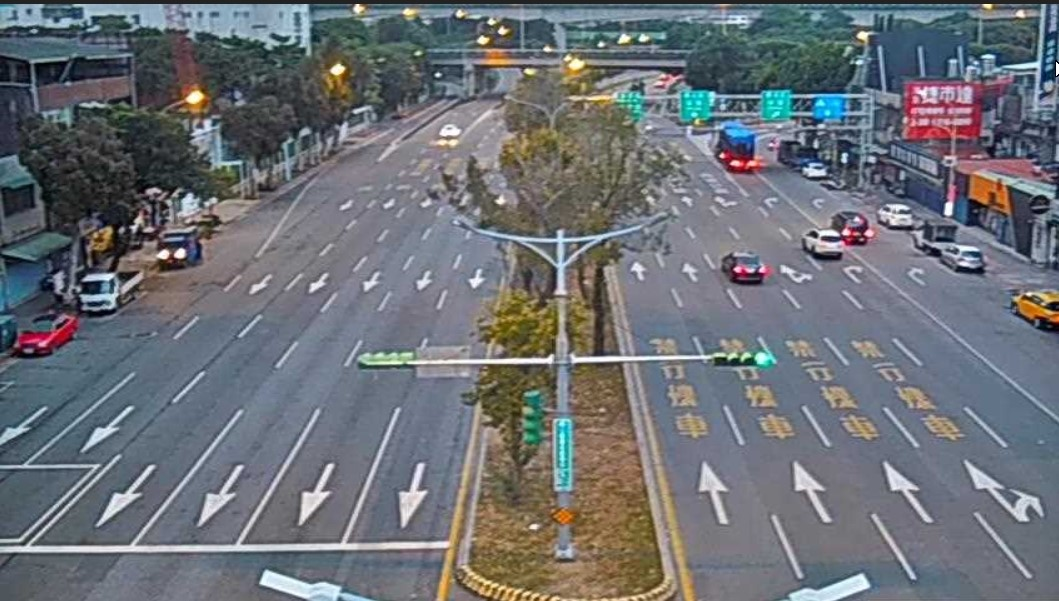Business Passenger Car: (1012, 277, 1059, 334)
Private Passenger Car: (20, 306, 71, 357), (716, 247, 774, 284), (939, 237, 980, 275), (831, 204, 867, 247), (804, 226, 845, 263), (882, 196, 910, 234), (437, 121, 469, 141)
